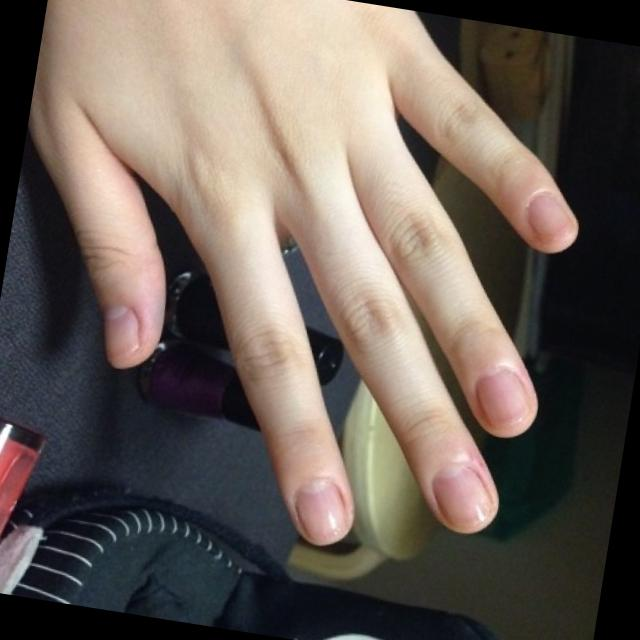Nail: (432, 462, 491, 530), (475, 367, 534, 430), (295, 478, 347, 543), (526, 192, 571, 242), (103, 304, 138, 361)
